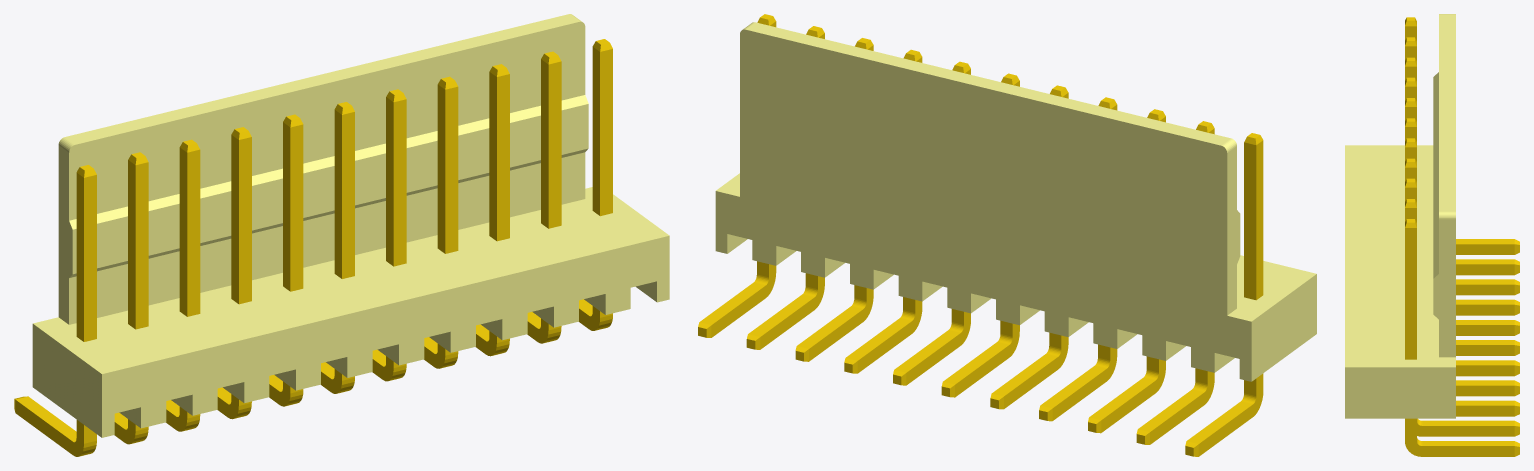
Rendered from DS1070-11MR (WF-11RA CONNFLY).obj.
3 renders of one model, left to right at view 1: azimuth 30°, elevation 25°; view 2: azimuth 150°, elevation 25°; view 3: azimuth 270°, elevation 25°, orthographic. The views are drawn at different scales.
Parts seen in each view (by area): view 1: DS1070-11MR_(WF-11RA_CONNFLY); view 2: DS1070-11MR_(WF-11RA_CONNFLY); view 3: DS1070-11MR_(WF-11RA_CONNFLY).
Boxes of the visible parts, x1,y1,x2,y2 form: DS1070-11MR_(WF-11RA_CONNFLY): (14,14,669,456); DS1070-11MR_(WF-11RA_CONNFLY): (698,14,1316,456); DS1070-11MR_(WF-11RA_CONNFLY): (1345,14,1519,456).
Bounding box in the file's own units: 0.016 × 0.00807 × 0.00532.
